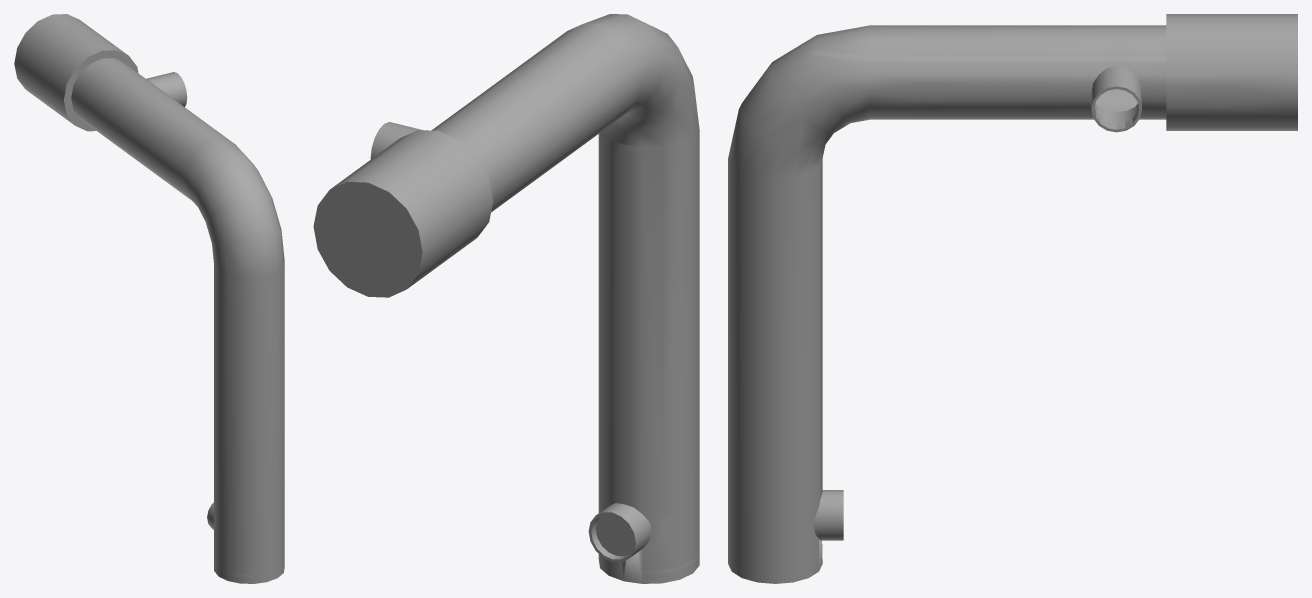
Rendered from SinkFaucet_19.obj.
3 renders of one model, left to right at view 1: azimuth 30°, elevation 25°; view 2: azimuth 150°, elevation 25°; view 3: azimuth 270°, elevation 25°, orthographic. The views are drawn at different scales.
Visible parts, largest first — view 1: SinkFaucet_19; view 2: SinkFaucet_19; view 3: SinkFaucet_19.
Part boxes in pixels (box(x1,y1,x2,y2)): SinkFaucet_19: box(14, 14, 284, 583); SinkFaucet_19: box(313, 14, 699, 583); SinkFaucet_19: box(728, 14, 1297, 583).
Size of the model in its own units: 0.0521 by 0.2148 by 0.2037.
1 material, 1 textured.
